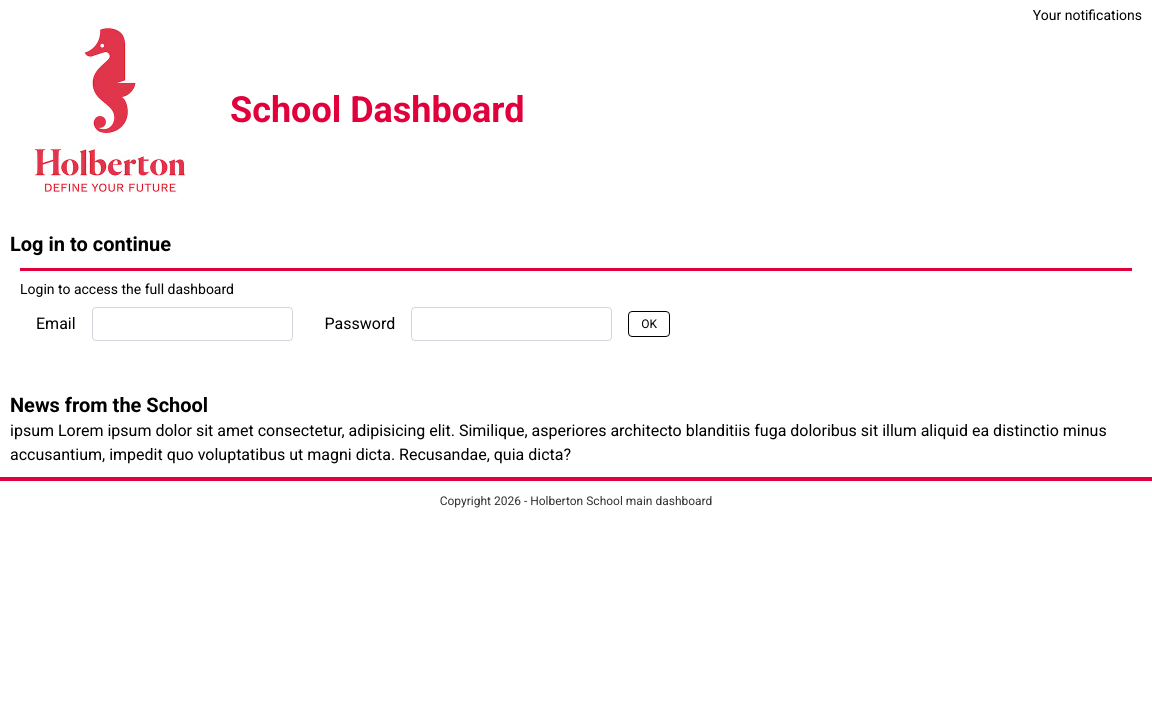
Test case: App (Task 0) - displayDrawer state › clicking the close button hides the drawer
Click the text "Your notifications": x=1087, y=15 [1033, 5, 1142, 25]
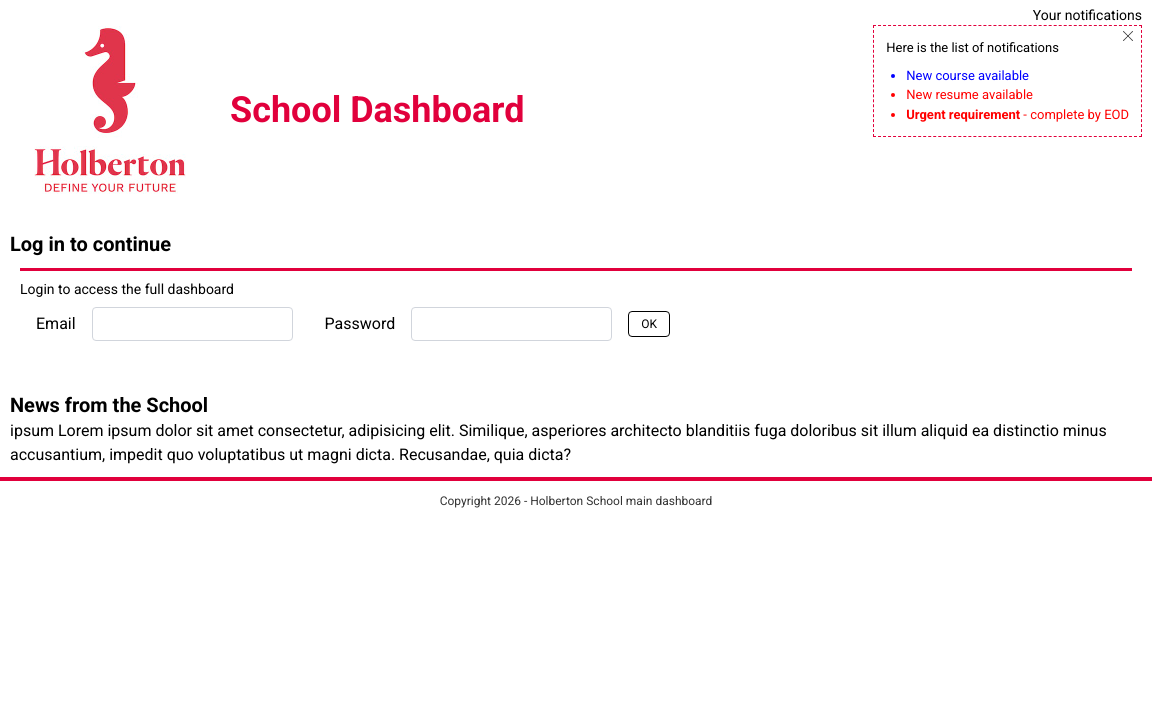
Click the button named "close": x=1128, y=36 [1123, 31, 1133, 41]
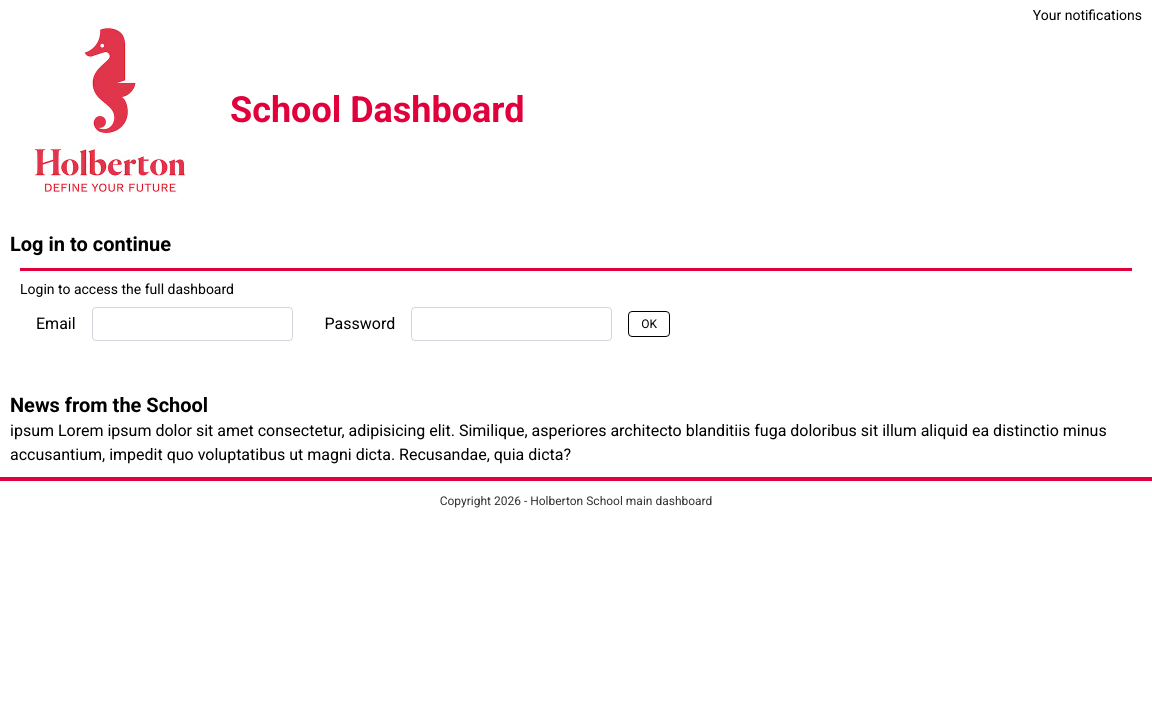
Expected: the text "Here is the list of notifications" is gone
